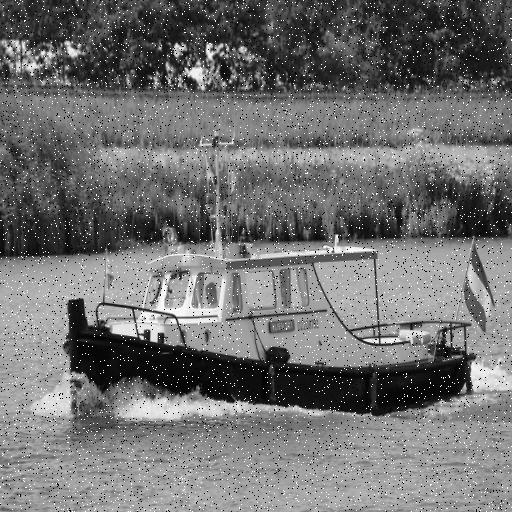tugboat: (62, 230, 479, 434)
